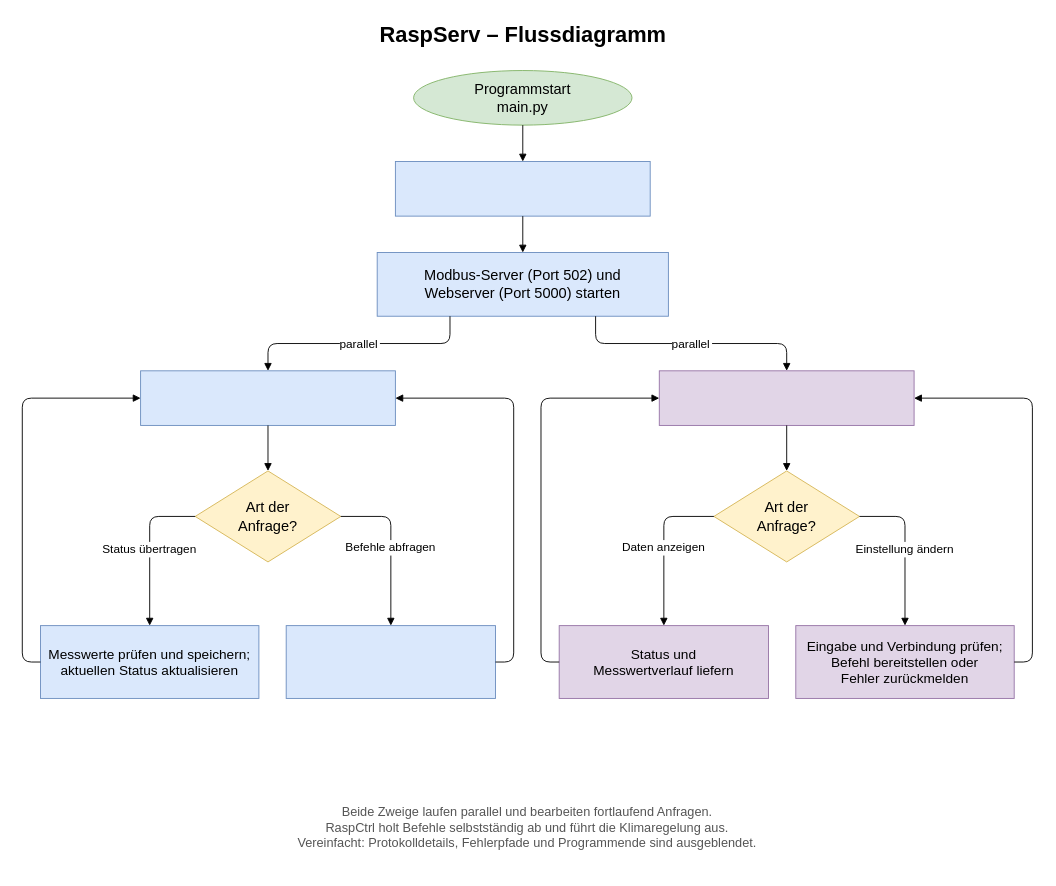
This 1056x886 diagram has some shape labels left out. The shapes that lost their labels are listed below. From the top down, each one's centre as x and y in pixels, then its label:
At (522,188): "SQLite-Datenbank initialisieren".
At (267,397): "Auf Modbus-Anfrage von RaspCtrl warten".
At (786,397): "Auf Anfrage der Weboberfläche warten".
At (390,661): "Bereitgestellte Befehle an RaspCtrl zurückgeben".
